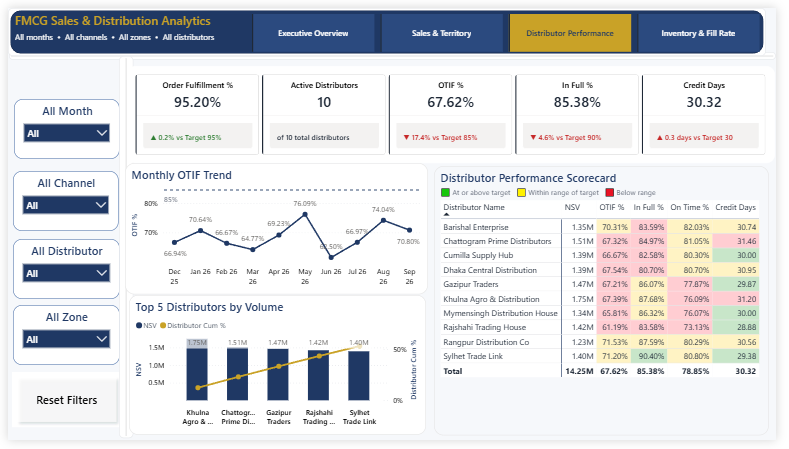

The page's visual inventory and layout, read from the dashboard file:
{"tool":"powerbi","page":{"name":"Distributor Performance","canvas":[1280,720],"ordinal":2},"visuals":[{"type":"slicer","title":"All Month","fields":{"Values":["Calendar.Month"]},"box":[9.5,152.4,176.2,100],"z":0},{"type":"slicer","title":"All Channel","fields":{"Values":["otif_log.channel"]},"box":[7.9,271.4,176.2,100],"z":1000},{"type":"slicer","title":"All Distributor","fields":{"Values":["dim_outlet_route.Distributor Name"]},"box":[7.9,385.7,177.8,100],"z":2000},{"type":"slicer","title":"All Zone","fields":{"Values":["dim_outlet_route.zone"]},"box":[7.9,495.2,177.8,100],"z":3000},{"type":"actionButton","box":[6.3,606.3,182.5,92.1],"z":4000},{"type":"shape","box":[2.4,73.1,1277.6,13.4],"z":5000},{"type":"shape","box":[185.1,80.6,23.9,637.3],"z":6000},{"type":"cardVisual","fields":{"Data":["___Measure_Delivery and OTIF.Order Fulfillment %","_Measures_Sales and Margins.Active Distributors","___Measure_Delivery and OTIF.OTIF %","___Measure_Delivery and OTIF.In Full %","___Measure_Delivery and OTIF.Credit Days"]},"box":[198.4,96.7,1080.3,162.3],"z":7000},{"type":"lineClusteredColumnComboChart","title":"Top 5 Distributors by Volume","fields":{"Category":["dim_outlet_route.Distributor Name"],"Y":["_Measures_Sales and Margins.NSV"],"Y2":["_Measures_Sales and Margins.Distributor Cum %"]},"box":[202.3,479.1,495.3,232.6],"z":8000},{"type":"lineChart","title":"Monthly OTIF Trend","fields":{"Category":["Calendar.MonthLabel"],"Y":["___Measure_Delivery and OTIF.OTIF %"]},"box":[195.3,258.1,504.7,218.6],"z":9000},{"type":"pivotTable","title":"Distributor Performance Scorecard","fields":{"Rows":["dim_outlet_route.Distributor Name"],"Values":["_Measures_Sales and Margins.NSV","___Measure_Delivery and OTIF.OTIF %","___Measure_Delivery and OTIF.In Full %","___Measure_Delivery and OTIF.On Time %","___Measure_Delivery and OTIF.Credit Days"]},"box":[709.3,262.8,558.1,448.8],"z":10000},{"type":"shape","box":[0,0,1263.3,80],"z":11000},{"type":"shape","box":[11.7,6.7,381.7,58.3],"z":12000},{"type":"pageNavigator","box":[406.7,10,848.3,63.3],"z":13000}]}

Visuals, with their boxes in screenshot pixels (x1, y1, x2, y2), scaled from the page's 1280x720 canvas onto the 789x449 screenshot:
"All Month" slicer: [6, 95, 114, 157]
"All Channel" slicer: [5, 169, 113, 232]
"All Distributor" slicer: [5, 241, 114, 303]
"All Zone" slicer: [5, 309, 114, 371]
actionButton: [4, 378, 116, 436]
shape: [1, 46, 788, 54]
shape: [114, 50, 129, 448]
cardVisual - ___Measure_Delivery and OTIF.Order Fulfillment % x _Measures_Sales and Margins.Active Distributors: [122, 60, 788, 162]
"Top 5 Distributors by Volume" lineClusteredColumnComboChart: [125, 299, 430, 444]
"Monthly OTIF Trend" lineChart: [120, 161, 431, 297]
"Distributor Performance Scorecard" pivotTable: [437, 164, 781, 444]
shape: [0, 0, 779, 50]
shape: [7, 4, 242, 41]
pageNavigator: [251, 6, 774, 46]
